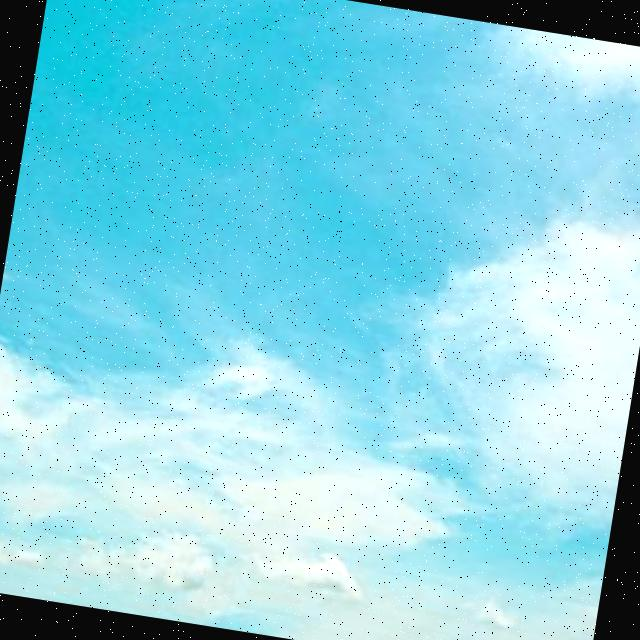Ci: (1, 113, 640, 640)
